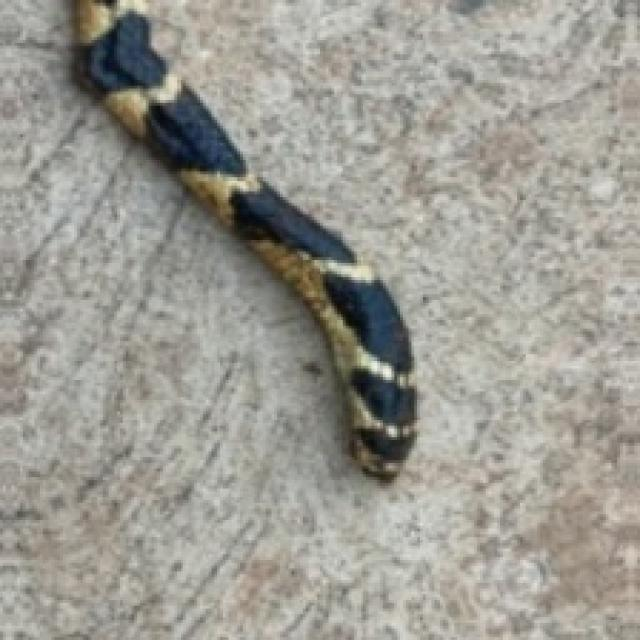king cobra: (77, 0, 414, 477)
